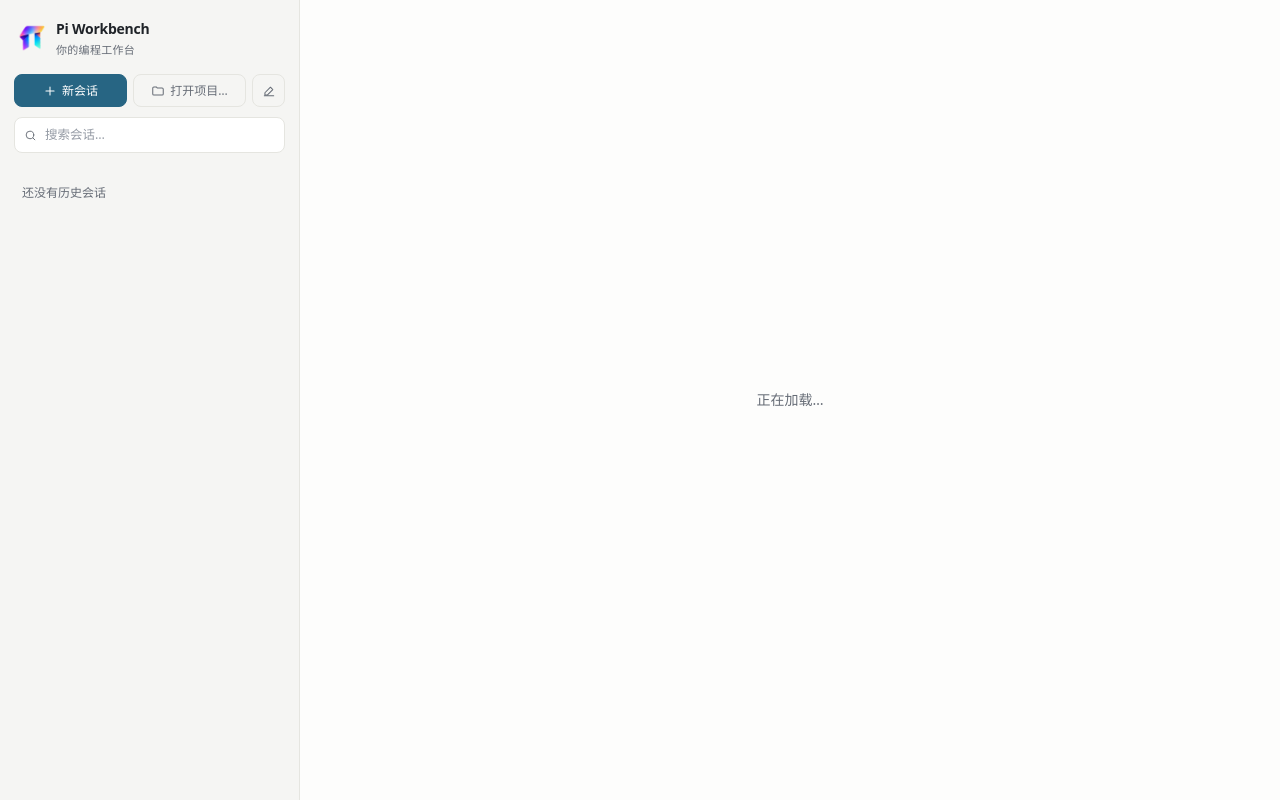
Test: falls back to the inline path if the native picker fails
Click the button "新会话" at [70, 91], box [14,74,127,107]
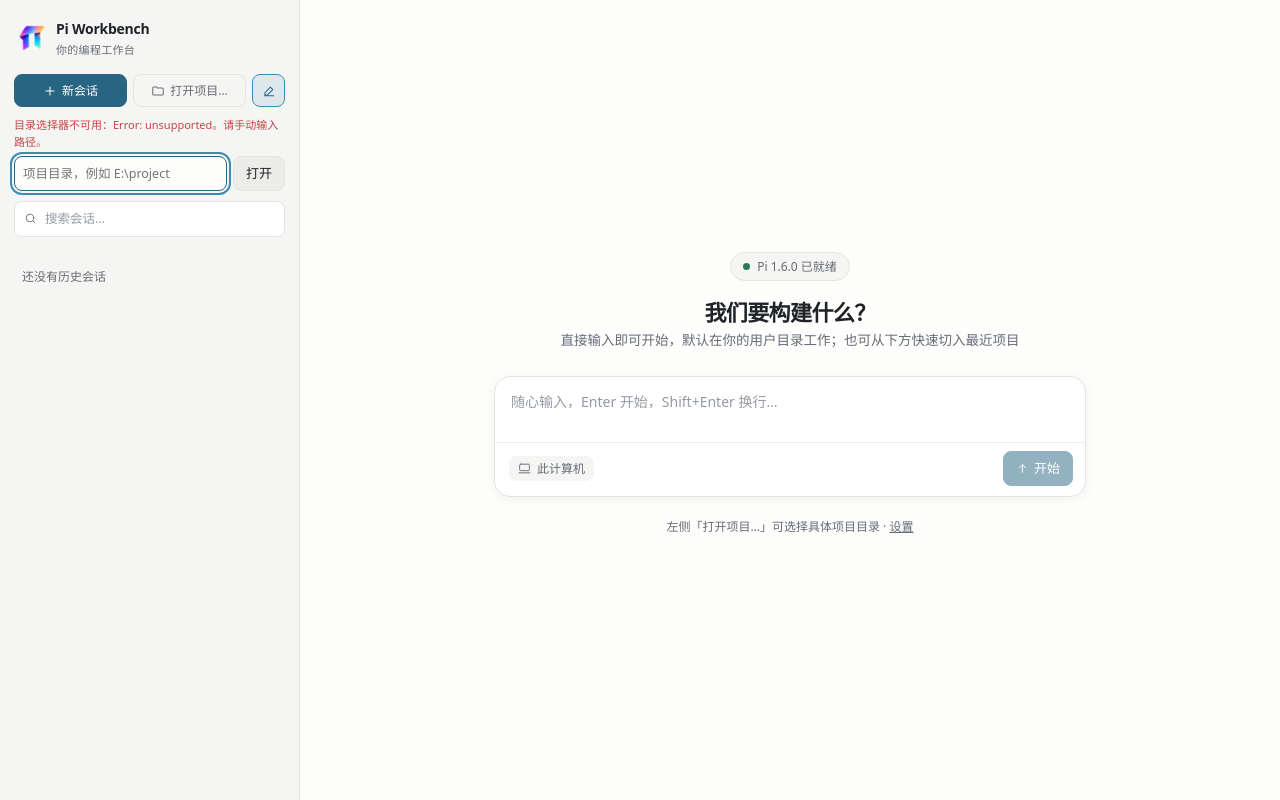
Expected: the message shows "手动输入路径", [14,117,278,149]
